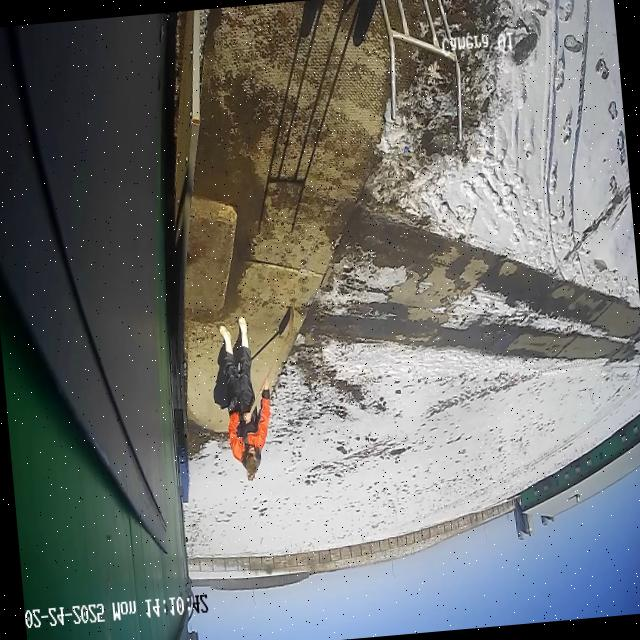Red uniform: (214, 311, 279, 484)
